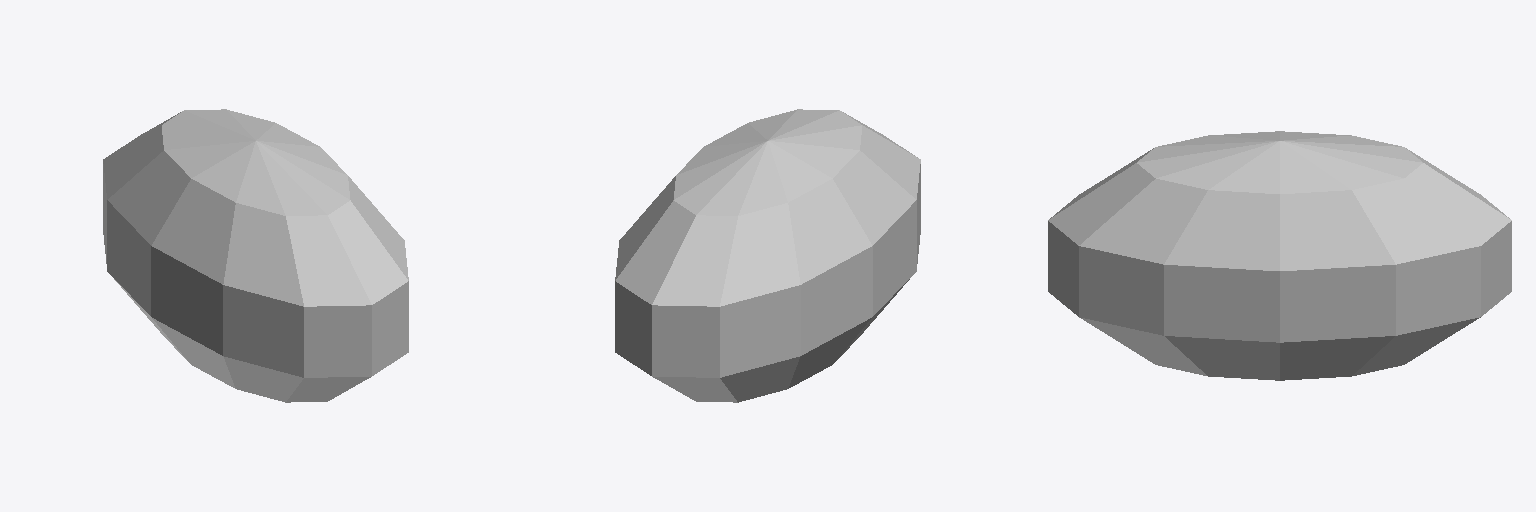
The model's file is Boss1_Head.obj.
3 views of the same model, side by side, from view 1: azimuth 30°, elevation 25°; view 2: azimuth 150°, elevation 25°; view 3: azimuth 270°, elevation 25° (orthographic).
Parts seen in each view (by area): view 1: Head_Sphere; view 2: Head_Sphere; view 3: Head_Sphere.
Part boxes in pixels (x1,y1,x2,y2): Head_Sphere: (103,109,408,402); Head_Sphere: (615,109,920,402); Head_Sphere: (1048,131,1511,380).
Bounding box in the file's own units: 1.9 × 2 × 3.65.